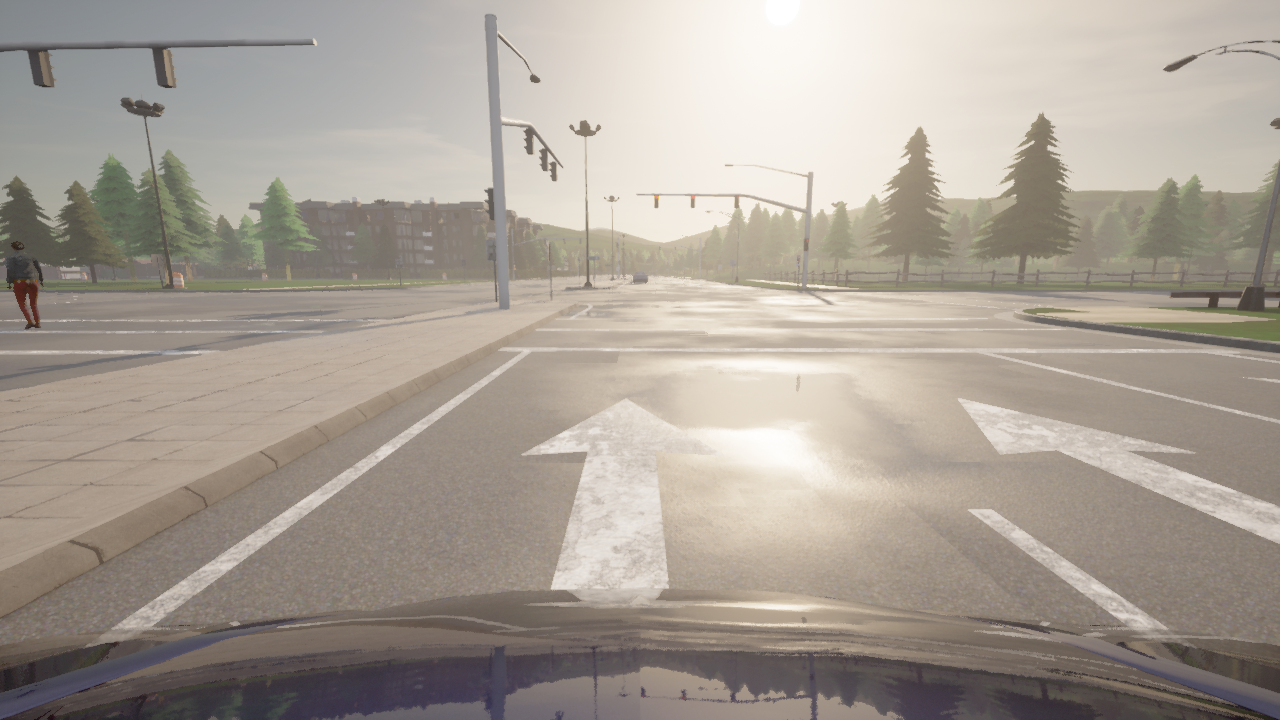cyclist: (0, 588, 1279, 719), (633, 272, 646, 281)
pedestrian: (4, 240, 44, 329)
